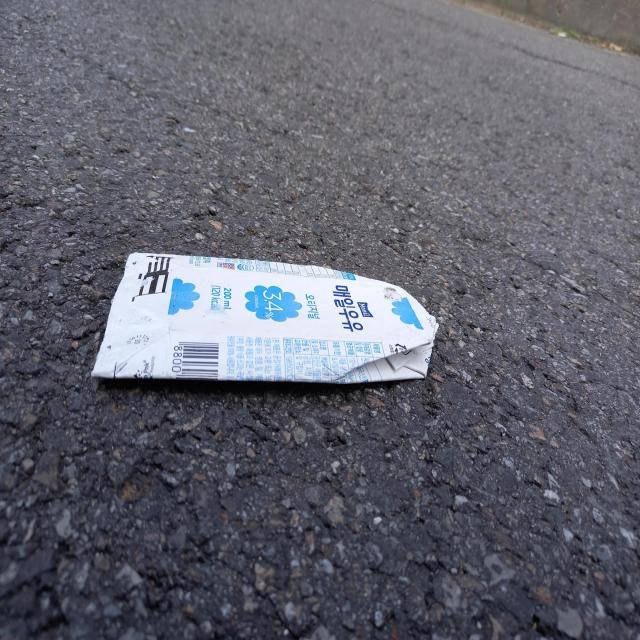paperpack: (91, 252, 438, 384)
